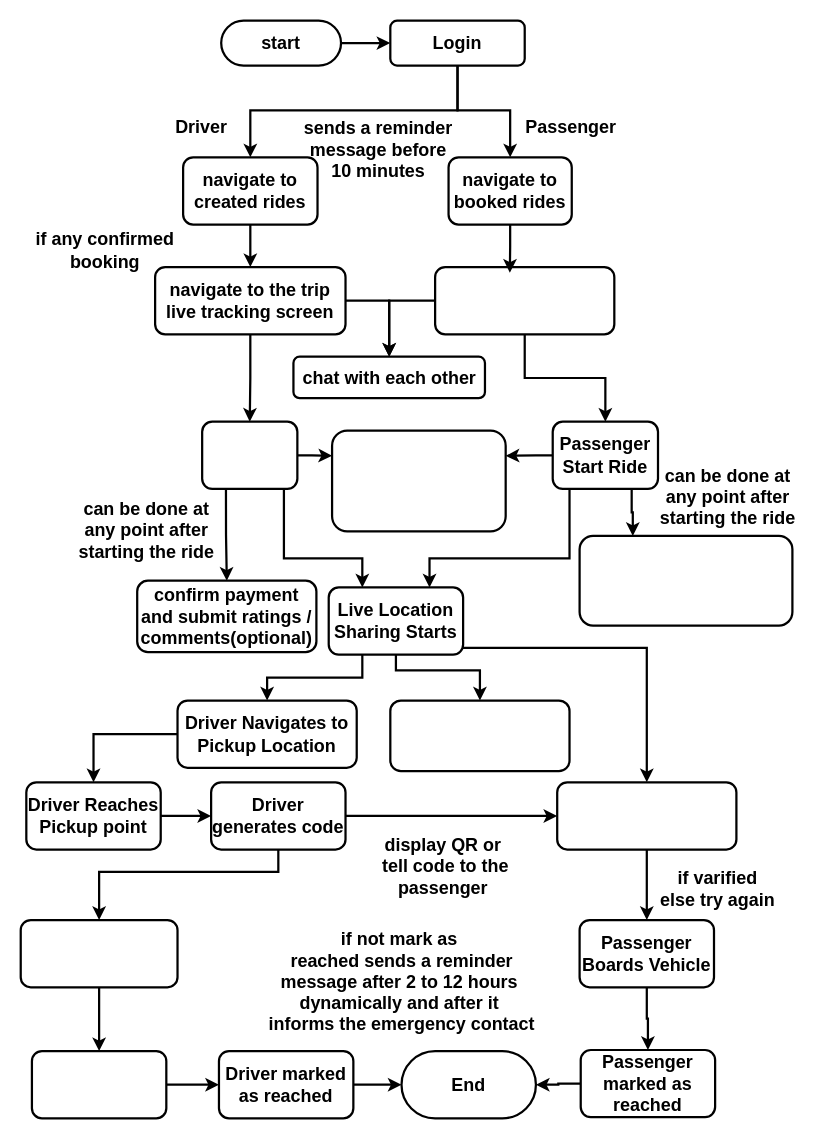
Image size: 819x1138. Some labels were removed from this diagram. The centre of each missing label's shape, as x and y in pixels:
"Driver Navigates to Destination" belongs at point 98,1084.
"Driver navigates to the drop of point" belongs at point 98,953.
"Driver Start Ride" belongs at point 249,454.
"navigate to booking live tracking screen" belongs at point 524,300.
"Passenger verifies it by submitting code or scanning qr code" belongs at point 646,815.
"sends live location to any one via third party app" belongs at point 479,735.
"submit payment reciept or by cash and submit ratings and comments (optional)" belongs at point 685,580.
"submit sos at any point from starting the ride until marked as reached" belongs at point 418,480.
